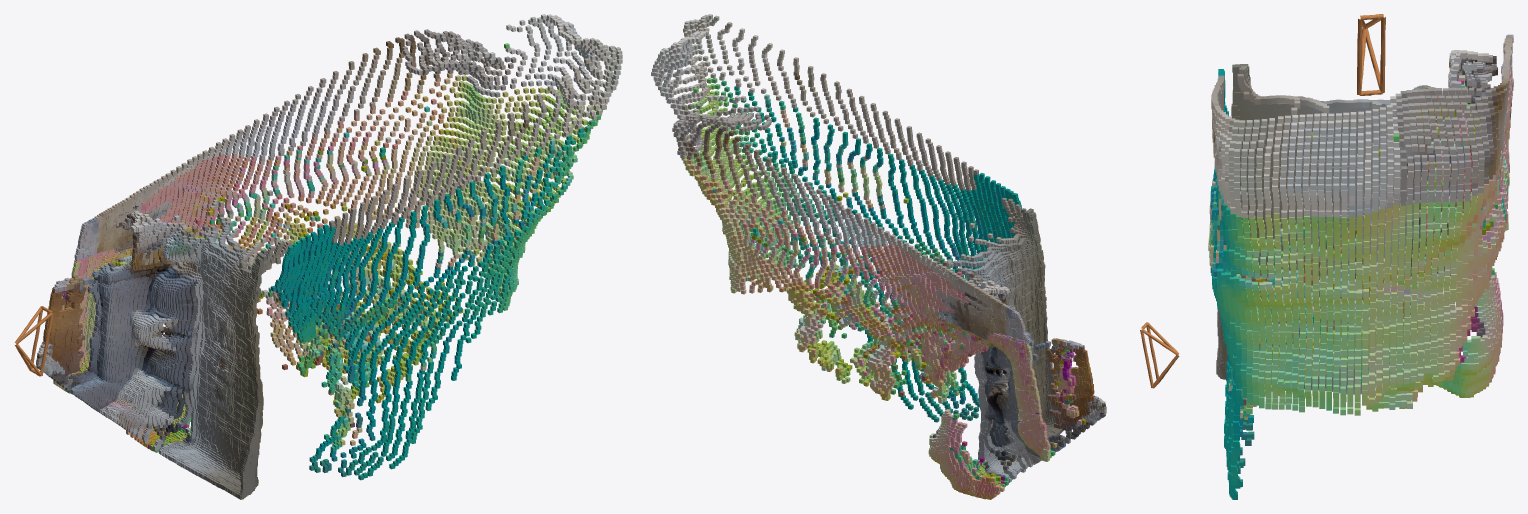
Rendered from pred_1-compressed.glb.
The picture shows the model from 3 angles, left to right: view 1: azimuth 30°, elevation 25°; view 2: azimuth 150°, elevation 25°; view 3: azimuth 270°, elevation 25°; orthographic projection. The views are drawn at different scales.
Bounding box in the file's own units: 7.85 × 4.99 × 2.59.
